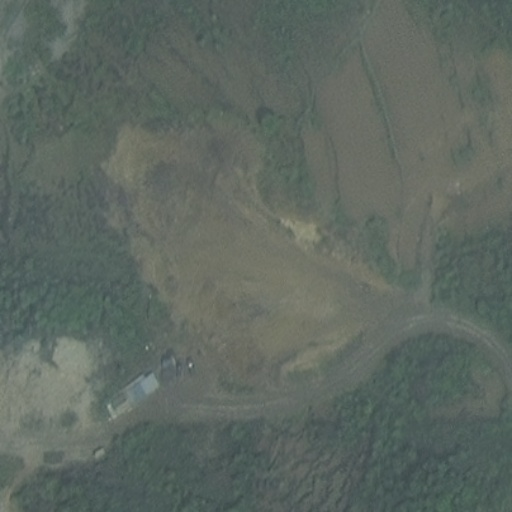landslide: (102, 113, 313, 360)
